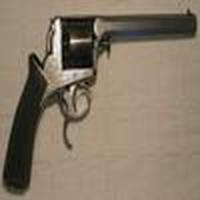gun: (6, 13, 199, 187)
